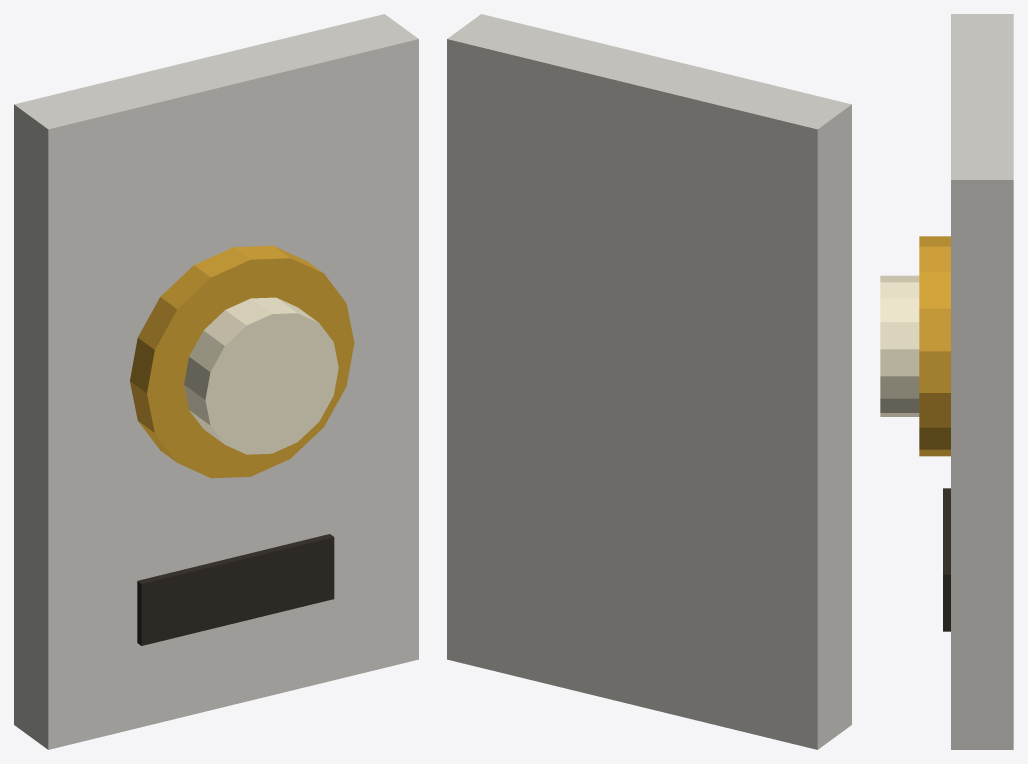
The model's file is DoorbellButton.obj.
The picture shows the model from 3 angles, left to right: view 1: azimuth 30°, elevation 25°; view 2: azimuth 150°, elevation 25°; view 3: azimuth 270°, elevation 25°; orthographic projection. The views are drawn at different scales.
Parts seen in each view (by area): view 1: Plate, ButtonRing, Button, Label; view 2: Plate; view 3: Plate, ButtonRing, Button, Label.
Boxes of the visible parts, x1,y1,x2,y2 form: Plate: (14,14,418,749); ButtonRing: (130,245,354,478); Button: (184,297,338,454); Label: (137,534,334,645); Plate: (447,14,851,749); Plate: (951,14,1013,749); ButtonRing: (919,236,950,456); Button: (880,275,919,416); Label: (943,488,950,631).
Size of the model in its own units: 0.05 by 0.08 by 0.017.
